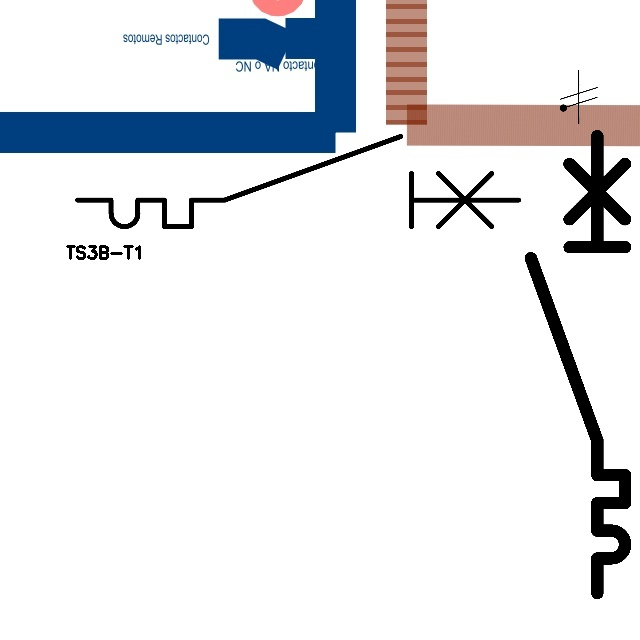interruptor_termomagnetico: (519, 124, 637, 605), (66, 125, 530, 238)
